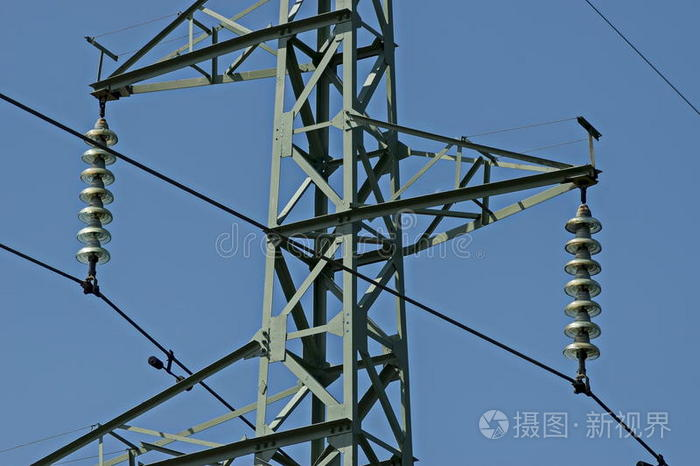insulator: (72, 124, 119, 267), (564, 213, 604, 362)
